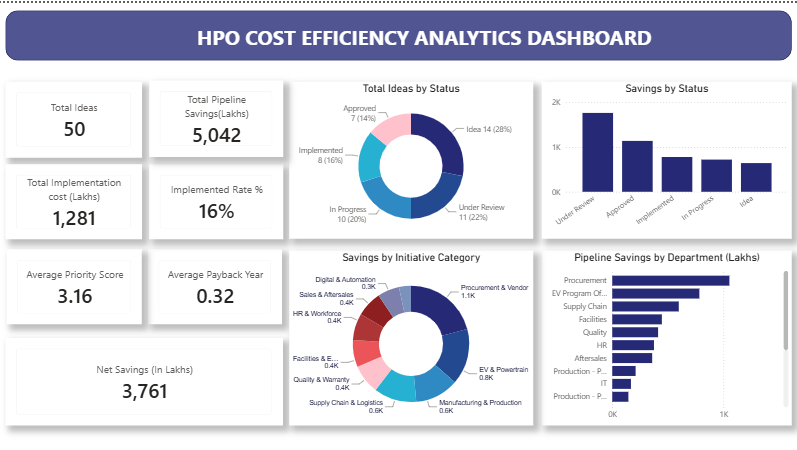

This screenshot's page, from the dashboard's own definition file:
{"tool":"powerbi","page":{"name":"Executive summary","canvas":[1280,720],"ordinal":0},"visuals":[{"type":"cardVisual","fields":{"Data":["Table 1.Total Pipeline Savings"]},"box":[243.8,125,210,120],"z":0},{"type":"cardVisual","fields":{"Data":["Table 1.Total Ideas"]},"box":[11.7,125,218.3,121.7],"z":1000},{"type":"cardVisual","fields":{"Data":["Table 1.Total Implementation cost"]},"box":[11.2,393.8,217.5,120],"z":2000},{"type":"cardVisual","fields":{"Data":["Table 1.Net Savings"]},"box":[11.2,536.2,443.8,140],"z":3000},{"type":"cardVisual","fields":{"Data":["Table 1.Average Payback"]},"box":[243.8,257.5,210,120],"z":4000},{"type":"cardVisual","fields":{"Data":["Table 1.Average Priority","Table 1.Average Priority"]},"box":[11.2,257.5,217.5,120],"z":5000},{"type":"cardVisual","fields":{"Data":["Table 1.Implemented %"]},"box":[243.8,395,210,117.5],"z":6000},{"type":"clusteredBarChart","fields":{"Y":["Table 1.Total Pipeline Savings"],"Category":["Dim_Department.Department"]},"box":[870,396.7,400,280],"z":7000},{"type":"donutChart","title":"Savings by Initiative Category","fields":{"Y":["Table 1.Total Pipeline Savings"],"Category":["Dim_Category.Category"]},"box":[466.7,396.7,390,280],"z":8000},{"type":"donutChart","fields":{"Y":["Table 1.Total Ideas"],"Category":["Dim_Status.Status"]},"box":[466.2,125,390,251.2],"z":9000},{"type":"clusteredColumnChart","title":" Quarterly Forecast Savings","fields":{"Category":["Ideas.Forecast Quarter"],"Y":["Table 1.Total Pipeline Savings"]},"box":[870,126.2,400,251.2],"z":10000},{"type":"shape","box":[12,12,1258,80],"z":11000},{"type":"textbox","box":[294,28,736,80],"z":12000}]}

Visuals, with their boxes in screenshot pixels (x1, y1, x2, y2), scaled from the page's 1280x720 canvas onto the 797x450 screenshot:
cardVisual - Table 1.Total Pipeline Savings: BBox(152, 78, 283, 153)
cardVisual - Table 1.Total Ideas: BBox(7, 78, 143, 154)
cardVisual - Table 1.Total Implementation cost: BBox(7, 246, 142, 321)
cardVisual - Table 1.Net Savings: BBox(7, 335, 283, 423)
cardVisual - Table 1.Average Payback: BBox(152, 161, 283, 236)
cardVisual - Table 1.Average Priority x Table 1.Average Priority: BBox(7, 161, 142, 236)
cardVisual - Table 1.Implemented %: BBox(152, 247, 283, 320)
clusteredBarChart - Table 1.Total Pipeline Savings x Dim_Department.Department: BBox(542, 248, 791, 423)
"Savings by Initiative Category" donutChart: BBox(291, 248, 533, 423)
donutChart - Table 1.Total Ideas x Dim_Status.Status: BBox(290, 78, 533, 235)
" Quarterly Forecast Savings" clusteredColumnChart: BBox(542, 79, 791, 236)
shape: BBox(7, 8, 791, 58)
textbox: BBox(183, 18, 641, 68)
